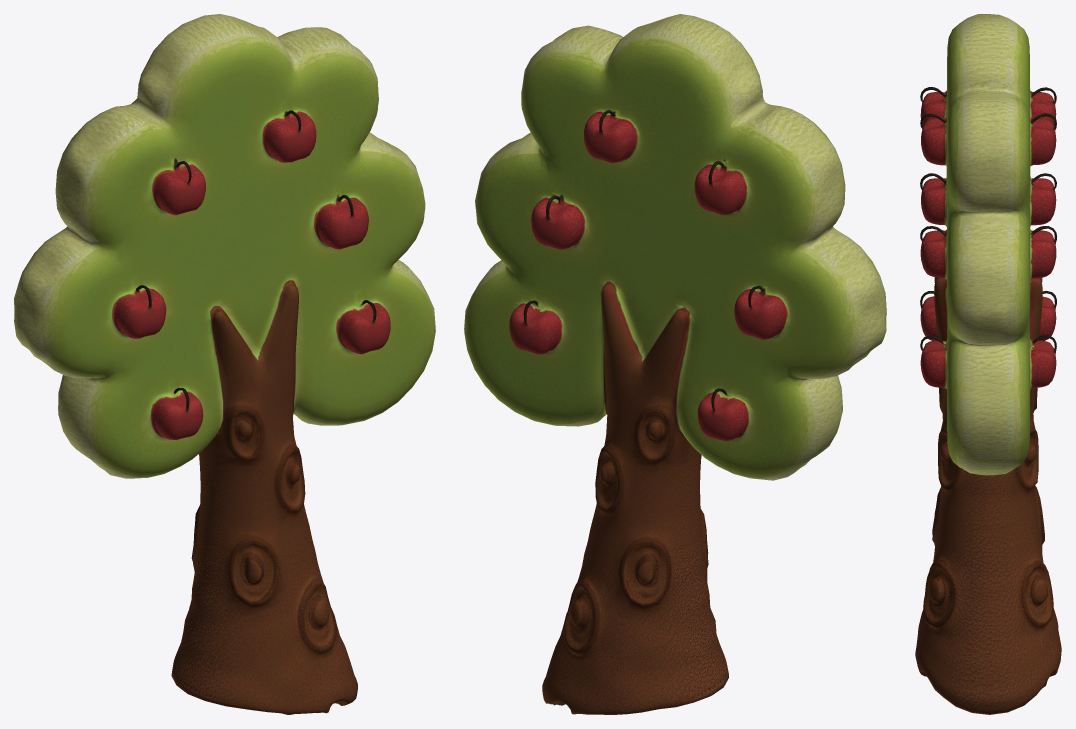
Rendered from apple-tree.glb.
3 renders of one model, left to right at view 1: azimuth 30°, elevation 25°; view 2: azimuth 150°, elevation 25°; view 3: azimuth 270°, elevation 25°, orthographic. The views are drawn at different scales.
Visible parts, largest first — view 1: tripo_node_15312533-5db5-4a95-9511-e7ef6212ab9a; view 2: tripo_node_15312533-5db5-4a95-9511-e7ef6212ab9a; view 3: tripo_node_15312533-5db5-4a95-9511-e7ef6212ab9a.
Part boxes in pixels (x1=…): tripo_node_15312533-5db5-4a95-9511-e7ef6212ab9a: x1=14, y1=14, x2=435, y2=714; tripo_node_15312533-5db5-4a95-9511-e7ef6212ab9a: x1=464, y1=14, x2=886, y2=714; tripo_node_15312533-5db5-4a95-9511-e7ef6212ab9a: x1=915, y1=14, x2=1061, y2=714.
Bounding box in the file's own units: 0.5871 × 0.9781 × 0.2033.
1 material, 1 textured.
